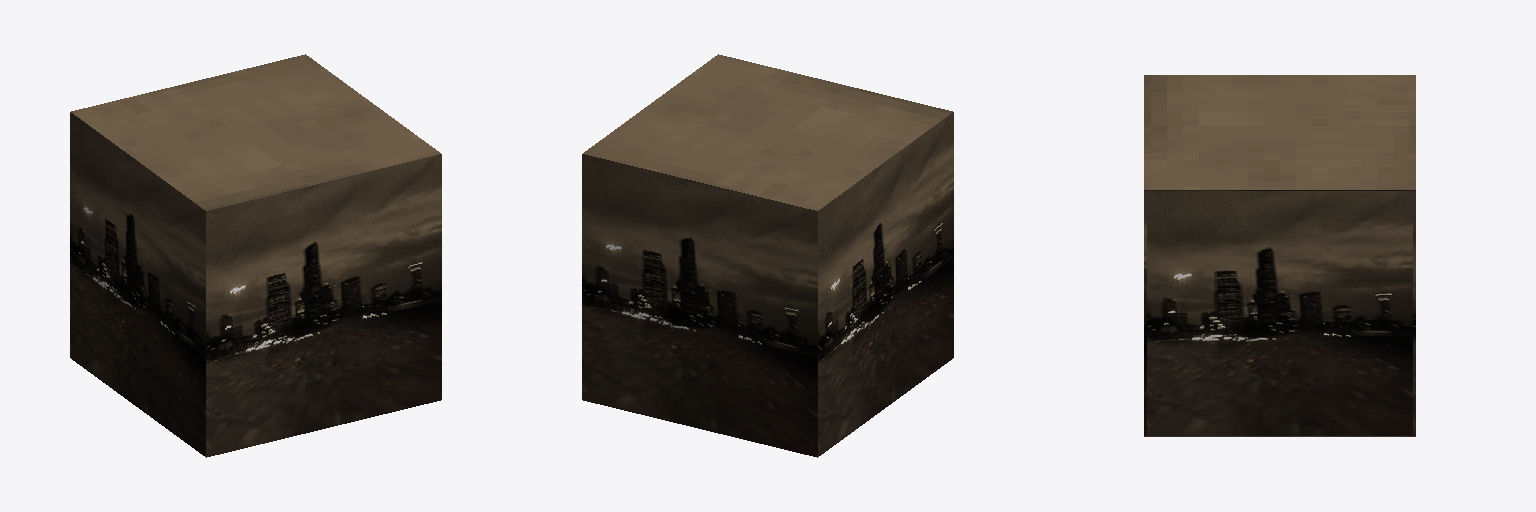
3 renders of one model, left to right at view 1: azimuth 30°, elevation 25°; view 2: azimuth 150°, elevation 25°; view 3: azimuth 270°, elevation 25°, orthographic.
Parts seen in each view (by area): view 1: Cube; view 2: Cube; view 3: Cube.
Part boxes in pixels (left/top/right/bottom): Cube: left=70, top=54, right=441, bottom=457; Cube: left=582, top=54, right=953, bottom=457; Cube: left=1144, top=75, right=1415, bottom=436.
Bounding box in the file's own units: 230 × 230 × 230.
Materials: 1 (1 with a texture image).